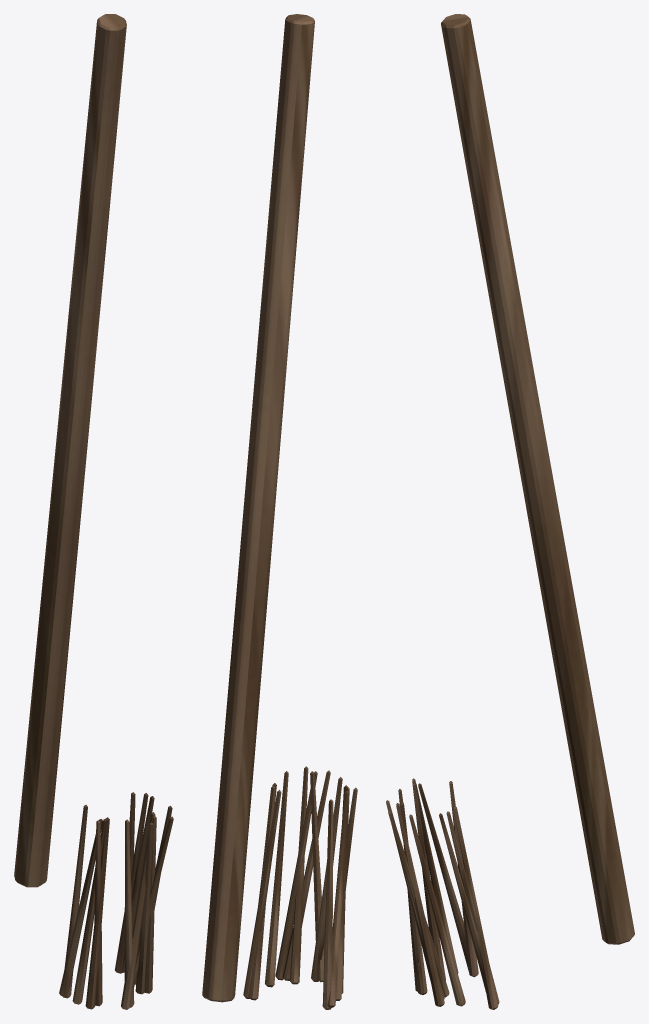
The model's file is p_broom.glb.
The picture shows the model from 3 angles, left to right: view 1: azimuth 30°, elevation 25°; view 2: azimuth 150°, elevation 25°; view 3: azimuth 270°, elevation 25°; orthographic projection.
Parts seen in each view (by area): view 1: broom; view 2: broom; view 3: broom.
Part boxes in pixels (left/top/right/bottom): broom: left=14, top=14, right=173, bottom=1009; broom: left=202, top=14, right=357, bottom=1009; broom: left=386, top=14, right=634, bottom=1009.
Bounding box in the file's own units: 0.1182 × 1.36 × 0.3151.
Materials: 1 (1 with a texture image).
